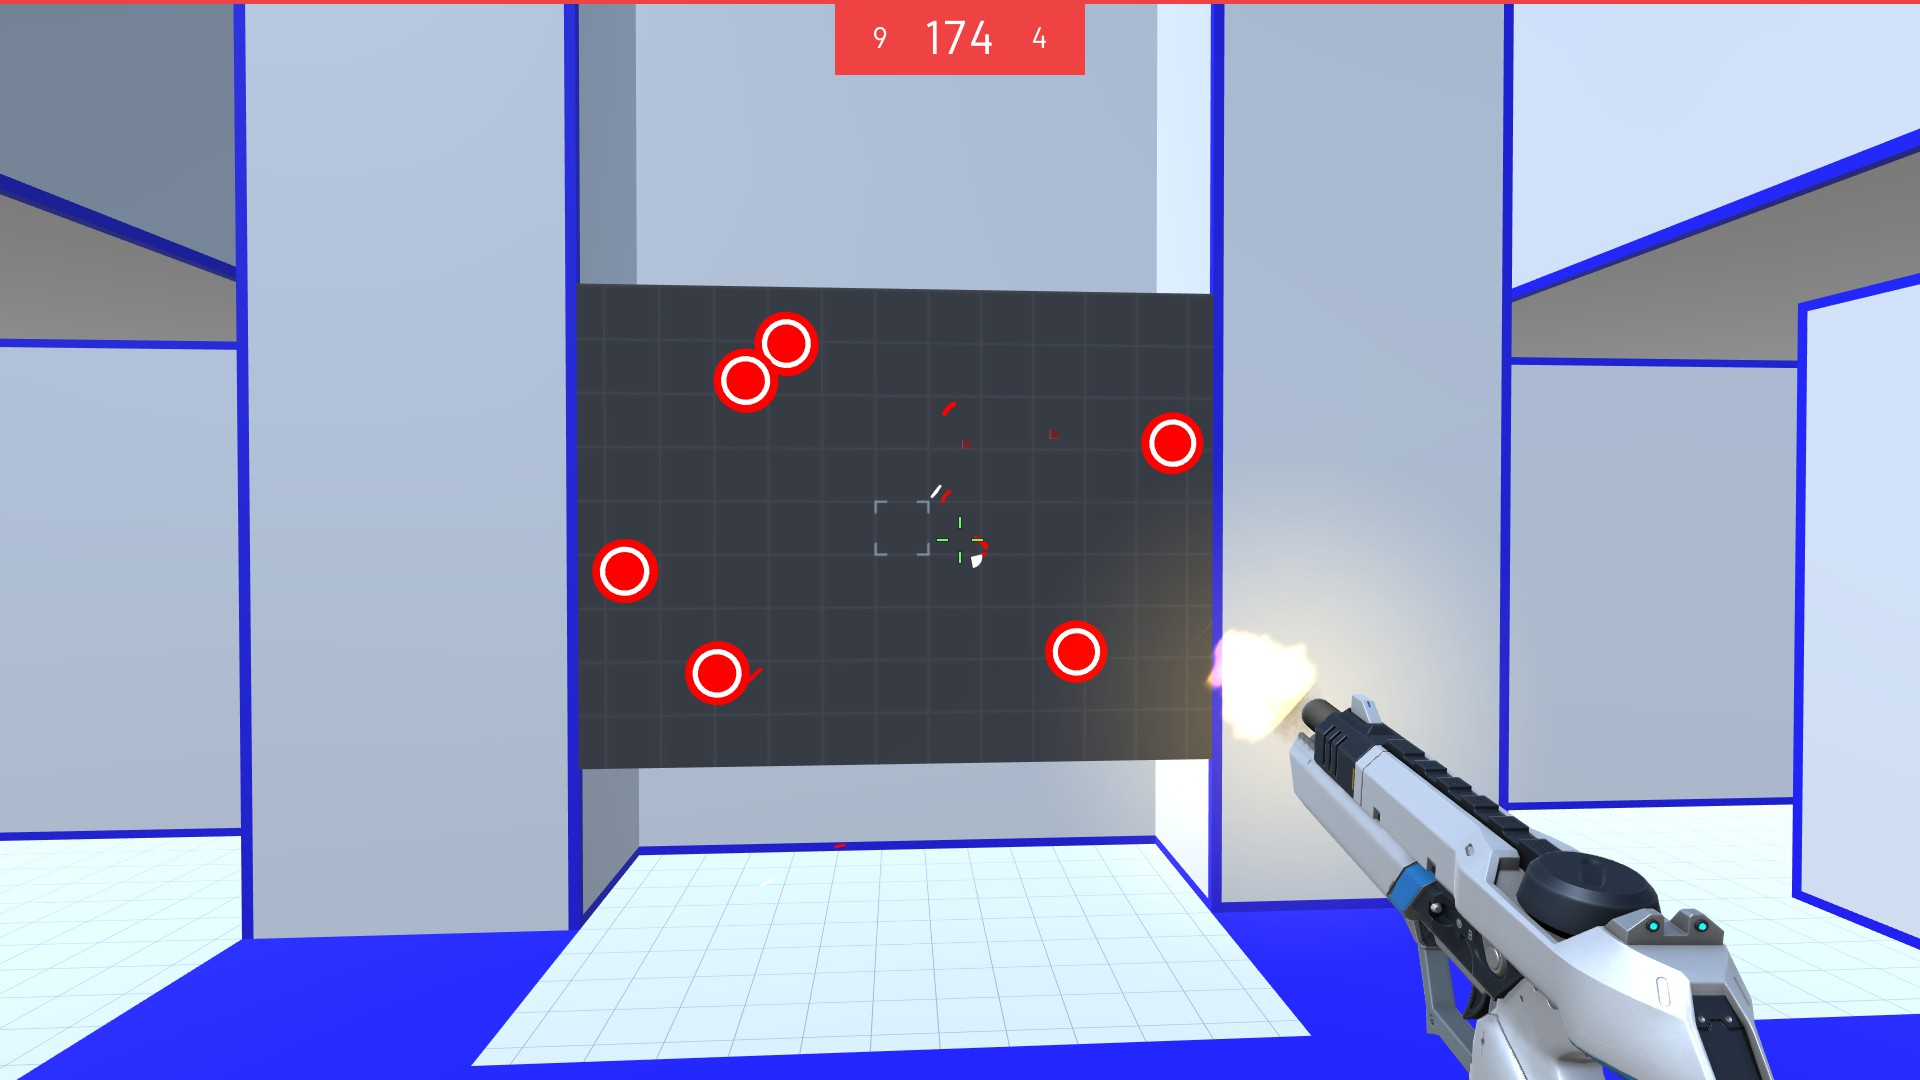target: (709, 347, 789, 418), (588, 539, 665, 609), (680, 640, 757, 705), (750, 309, 823, 377), (1137, 409, 1207, 479), (1040, 618, 1110, 686)
